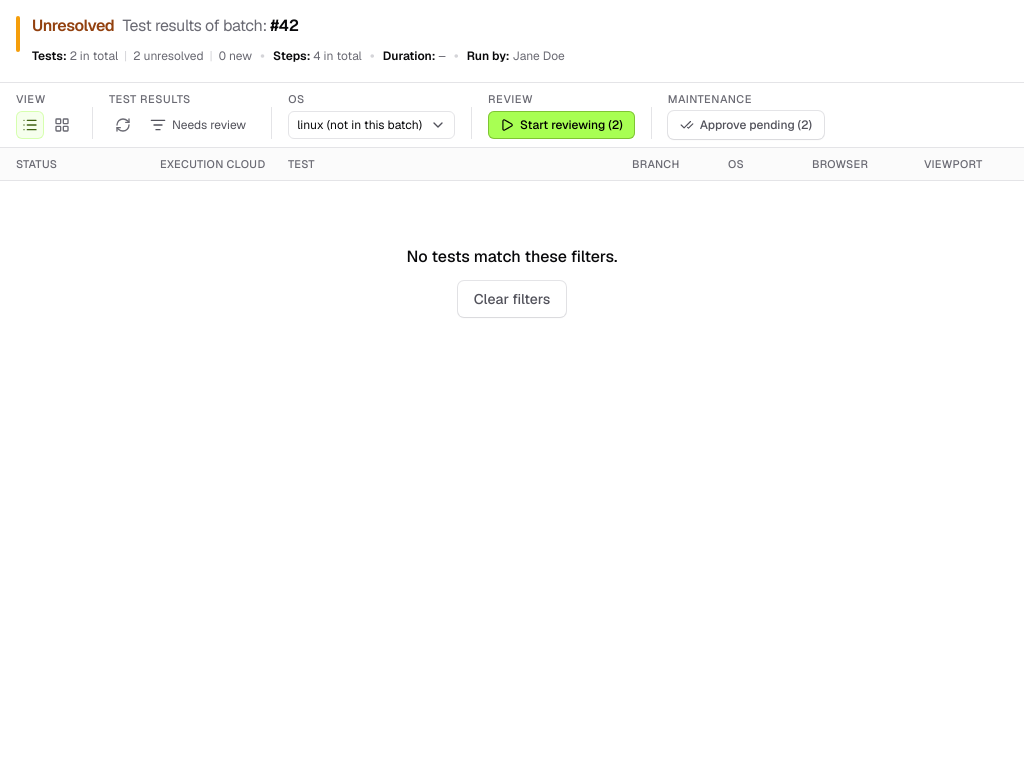
Scenario: BatchPage Approve pending with filters › Approve pending dialog adds the filters note when facets are active
Step 1. Click the button with test id "batch-approve-all" → {"x": 746, "y": 125}, box [668,111,824,139]
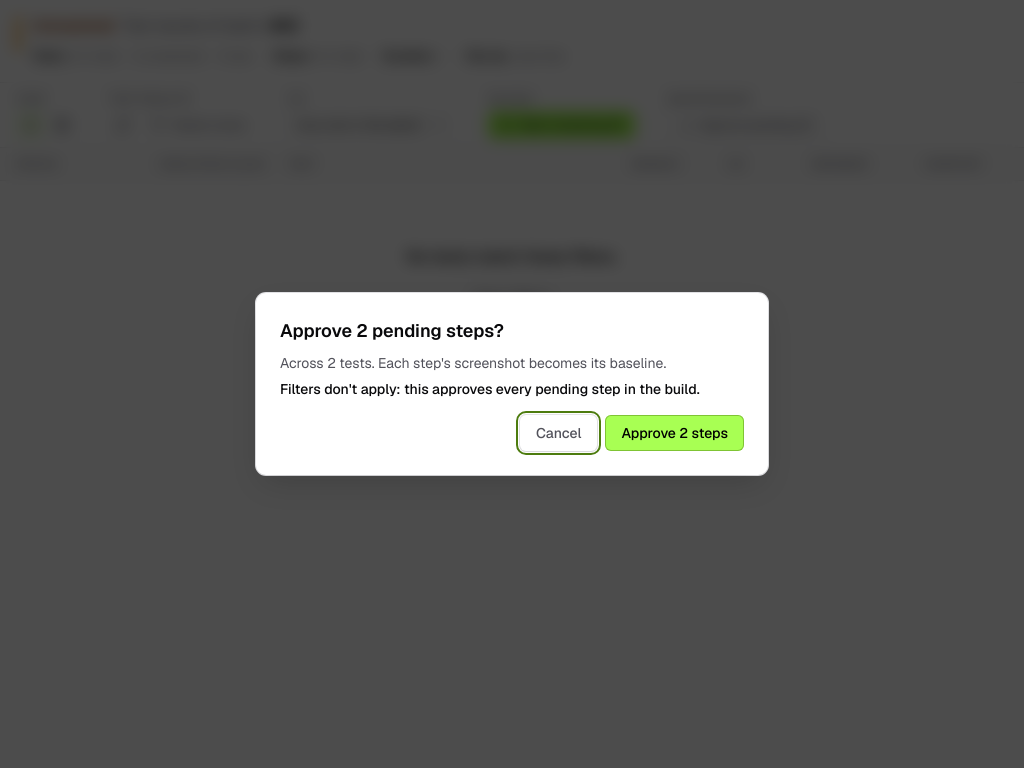
Result: the dialog with test id "approve-pending-dialog" shows "Filters don't apply: this approves every pending step in the build." at [280,380,700,398]
